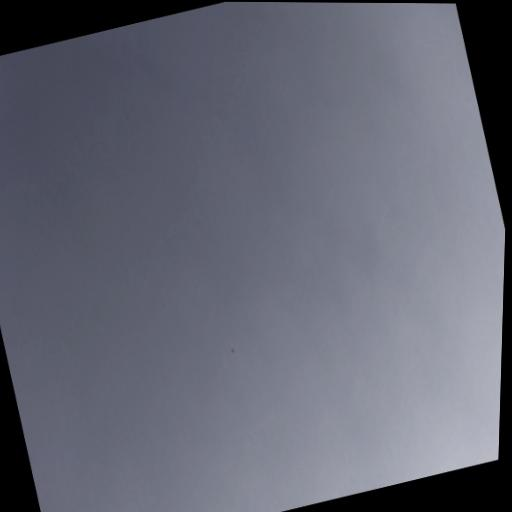drones: (230, 347, 235, 354)
